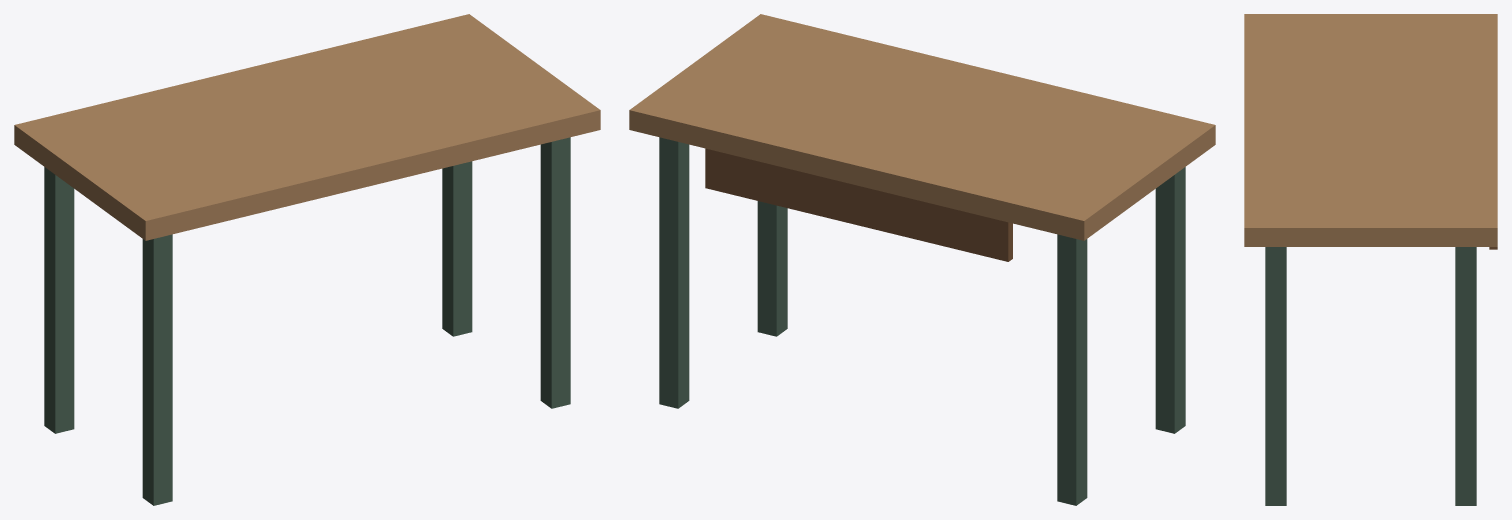
The picture shows the model from 3 angles, left to right: view 1: azimuth 30°, elevation 25°; view 2: azimuth 150°, elevation 25°; view 3: azimuth 270°, elevation 25°; orthographic projection. The views are drawn at different scales.
Parts seen in each view (by area): view 1: top, left-back-leg, right-back-leg, left-front-leg, right-front-leg; view 2: top, front-drawer, left-front-leg, right-front-leg, left-back-leg, right-back-leg; view 3: top, right-front-leg, right-back-leg.
Boxes of the visible parts, x1,y1,x2,y2 form: top: (14, 14, 600, 240); left-back-leg: (142, 234, 172, 505); right-back-leg: (540, 137, 570, 408); left-front-leg: (44, 167, 74, 433); right-front-leg: (442, 161, 472, 336); top: (629, 14, 1215, 240); front-drawer: (705, 148, 1012, 261); left-front-leg: (1057, 234, 1087, 505); right-front-leg: (659, 137, 689, 408); left-back-leg: (1155, 167, 1185, 433); right-back-leg: (757, 201, 787, 336); top: (1244, 14, 1497, 246); right-front-leg: (1455, 247, 1476, 505); right-back-leg: (1265, 247, 1286, 505).
Size of the model in its own units: 1.2 by 0.75 by 0.6.
